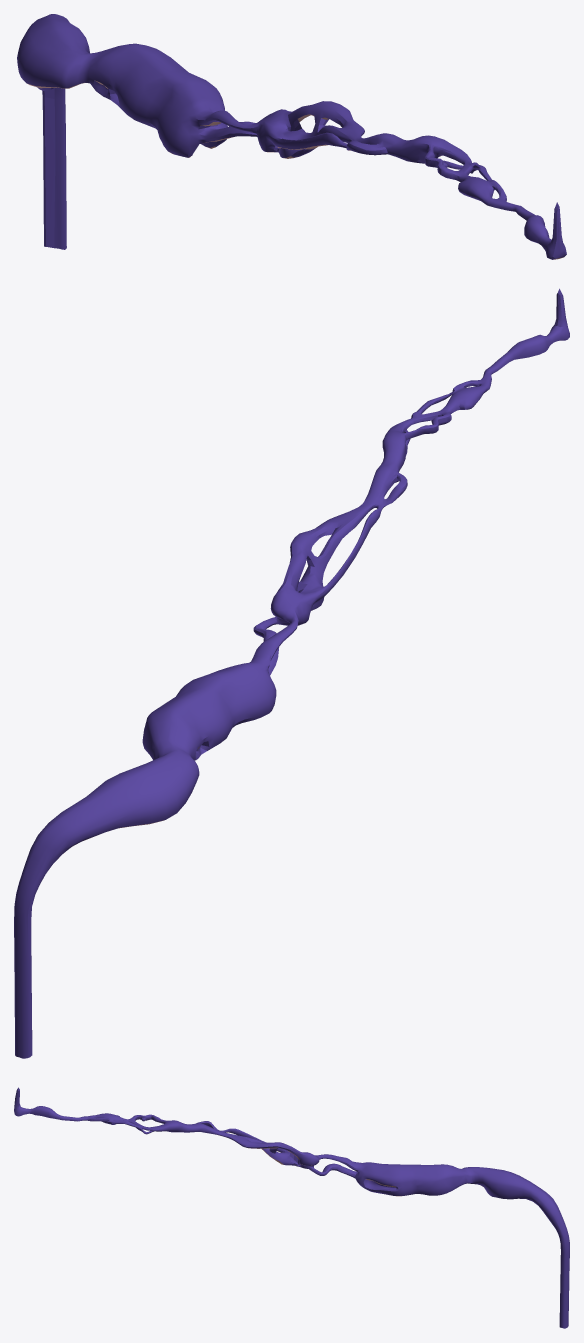
Rendered from Tunnel_7.fbx.
3 renders of one model, top to bottom at view 1: azimuth 30°, elevation 25°; view 2: azimuth 150°, elevation 25°; view 3: azimuth 270°, elevation 25°, orthographic. The views are drawn at different scales.
Visible parts, largest first — view 1: Tunnel_7; view 2: Tunnel_7; view 3: Tunnel_7.
Part boxes in pixels (x1,y1,x2,y2): Tunnel_7: (17, 14, 566, 259); Tunnel_7: (14, 288, 569, 1058); Tunnel_7: (14, 1087, 569, 1328).
Size of the model in its own units: 12908 by 51038 by 112632.
